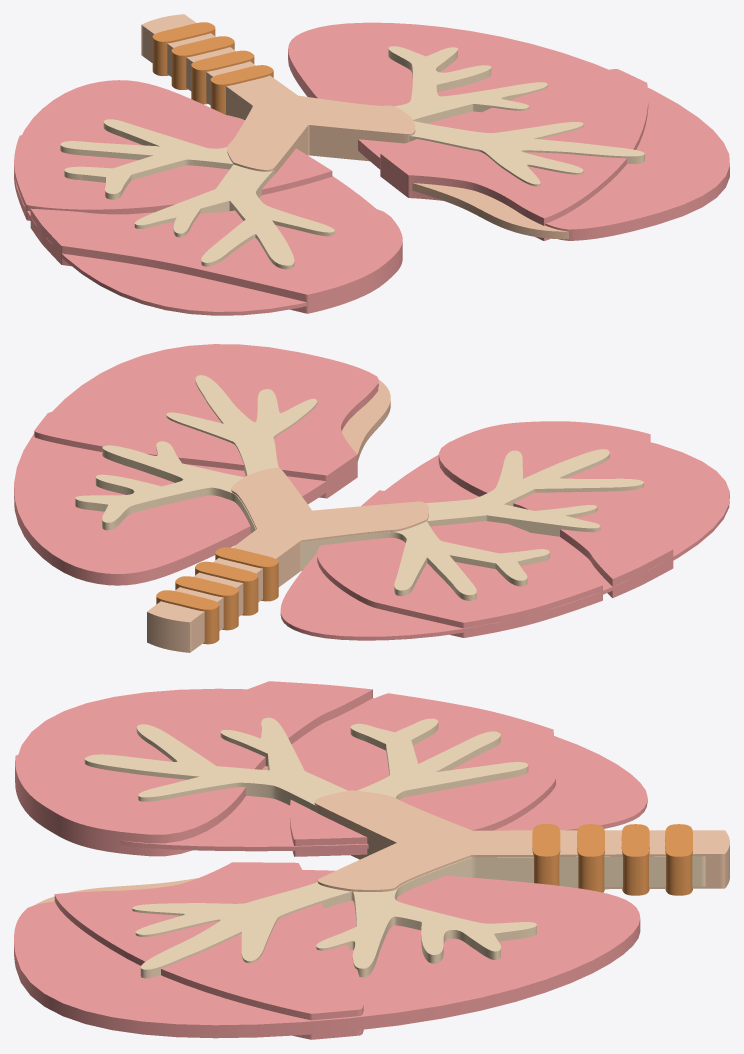
The model's file is emoji_u1fac1.glb.
The picture shows the model from 3 angles, top to bottom: view 1: azimuth 30°, elevation 25°; view 2: azimuth 150°, elevation 25°; view 3: azimuth 270°, elevation 25°; orthographic projection. The views are drawn at different scales.
Visible parts, largest first — view 1: emoji_u1fac1; view 2: emoji_u1fac1; view 3: emoji_u1fac1.
Part boxes in pixels (x1,y1,x2,y2): emoji_u1fac1: (14,14,729,315); emoji_u1fac1: (14,344,729,652); emoji_u1fac1: (14,681,729,1039).
Size of the model in its own units: 0.0338 by 0.0018 by 0.03.
